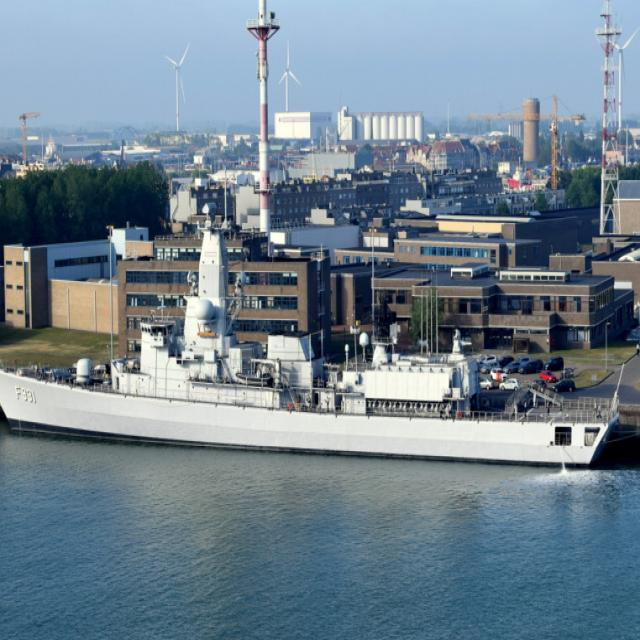Fragata: (1, 183, 625, 478)
